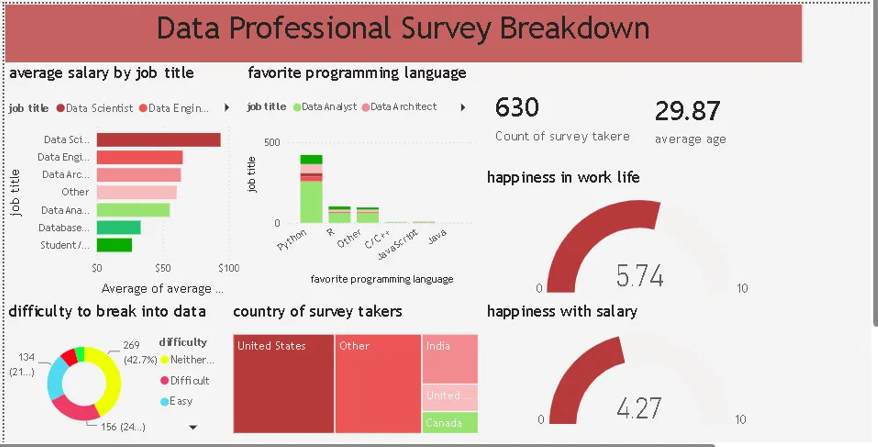

The page's visual inventory and layout, read from the dashboard file:
{"tool":"powerbi","page":{"name":"Page 1","canvas":[1280,720],"ordinal":0},"visuals":[{"type":"textbox","box":[0,0,966.7,73.3],"z":0},{"type":"cardVisual","fields":{"Data":["CountNonNull(Data Professional Survey.Unique ID)"]},"box":[564.4,71.1,227.8,126.7],"z":1000},{"type":"cardVisual","title":"Average age ","fields":{"Data":["Avg(Data Professional Survey.Q10 - Current Age)"]},"box":[758,71,209,135],"z":2000},{"type":"gauge","title":"happiness in work life","fields":{"Y":["Avg(Data Professional Survey.Q6 - How Happy are you in your Current Position with the following? (Work/Life Balance))"],"MinValue":["Min(Data Professional Survey.Q6 - How Happy are you in your Current Position with the following? (Work/Life Balance))"],"MaxValue":["Max(Data Professional Survey.Q6 - How Happy are you in your Current Position with the following? (Work/Life Balance))"]},"box":[579,198,388,162],"z":3000},{"type":"gauge","title":"happiness with salary","fields":{"Y":["Avg(Data Professional Survey.Q6 - How Happy are you in your Current Position with the following? (Salary))"],"MinValue":["Min(Data Professional Survey.Q6 - How Happy are you in your Current Position with the following? (Salary))"],"MaxValue":["Max(Data Professional Survey.Q6 - How Happy are you in your Current Position with the following? (Salary))"]},"box":[579,360,388,159],"z":4000},{"type":"barChart","title":"average salary by job title","fields":{"Category":["Data Professional Survey.Q1 - Which Title Best Fits your Current Role?.1"],"Series":["Data Professional Survey.Q1 - Which Title Best Fits your Current Role?.1"],"Y":["Avg(Data Professional Survey.average salary)"]},"box":[0,71.2,288.8,288.8],"z":5000},{"type":"treemap","title":"country of survey takers","fields":{"Group":["Data Professional Survey.Q11 - Which Country do you live in?.1"],"Values":["CountNonNull(Data Professional Survey.Q11 - Which Country do you live in?.1)"]},"box":[272.2,360,306.7,165.6],"z":6000},{"type":"columnChart","title":"favorite programming language","fields":{"Category":["Data Professional Survey.Q5 - Favorite Programming Language.1"],"Y":["CountNonNull(Data Professional Survey.Q1 - Which Title Best Fits your Current Role?.1)"],"Series":["Data Professional Survey.Q1 - Which Title Best Fits your Current Role?.1"]},"box":[288.8,71.2,286.2,276.2],"z":6001},{"type":"donutChart","title":"difficulty to break into data","fields":{"Category":["Data Professional Survey.Q7 - How difficult was it for you to break into Data?"],"Y":["CountNonNull(Data Professional Survey.Q7 - How difficult was it for you to break into Data?)"]},"box":[0,360,272.2,165.6],"z":6002}]}

Visuals, with their boxes on the page's 1280x720 design canvas (x1, y1, x2, y2). These are canvas units, not pixel positions in the 878x447 screenshot, which may show the page scaled, cropped or inside an application window:
textbox: bbox=(0, 0, 967, 73)
cardVisual - CountNonNull(Data Professional Survey.Unique ID): bbox=(564, 71, 792, 198)
"Average age " cardVisual: bbox=(758, 71, 967, 206)
"happiness in work life" gauge: bbox=(579, 198, 967, 360)
"happiness with salary" gauge: bbox=(579, 360, 967, 519)
"average salary by job title" barChart: bbox=(0, 71, 289, 360)
"country of survey takers" treemap: bbox=(272, 360, 579, 526)
"favorite programming language" columnChart: bbox=(289, 71, 575, 347)
"difficulty to break into data" donutChart: bbox=(0, 360, 272, 526)
